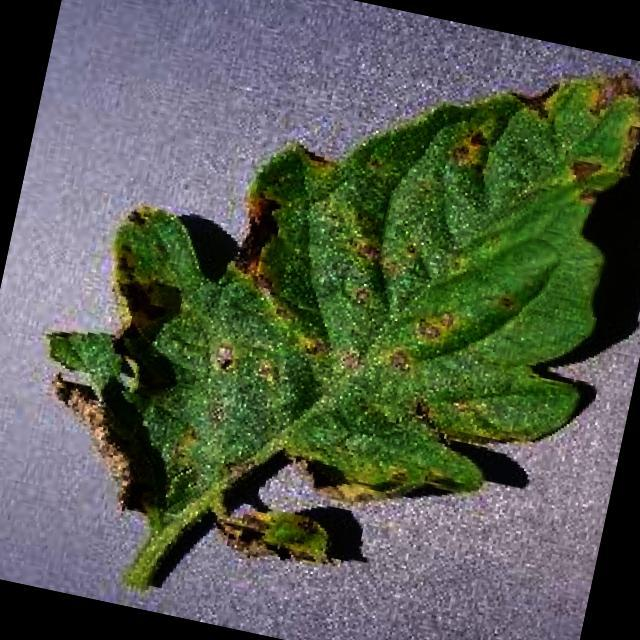Tomato Septoria spot leaf: (9, 0, 640, 612)
